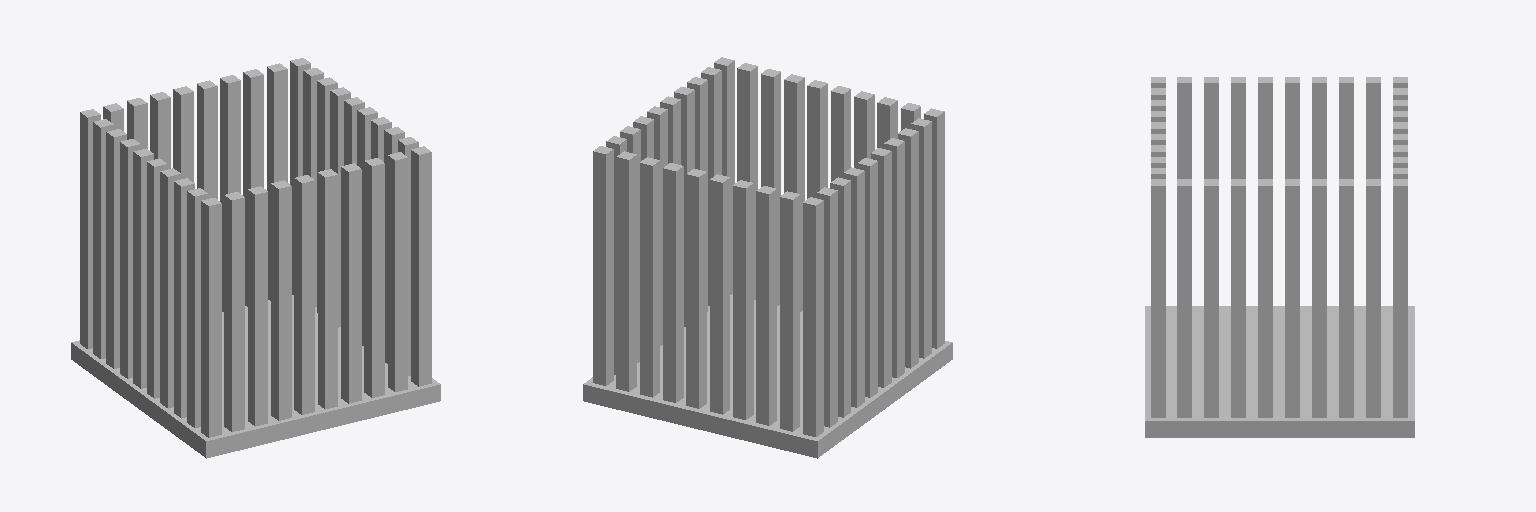
The model's file is prison.obj.
The picture shows the model from 3 angles: view 1: azimuth 30°, elevation 25°; view 2: azimuth 150°, elevation 25°; view 3: azimuth 270°, elevation 25°; orthographic projection.
Visible parts, largest first — view 1: group1 pCube47, group1 pCube54, group1 pCube56, group1 pCube48, group1 pCube51, group1 pCube50, group1 pCube57, group1 pCube53, group1 pCube52, group1 pCube55, group1 pCube49, group1 pCube78 (+24 smaller); view 2: group1 pCube47, group1 pCube59, group1 pCube61, group1 pCube64, group1 pCube67, group1 pCube62, group1 pCube58, group1 pCube65, group1 pCube66, group1 pCube63, group1 pCube60, pCube77 group1 (+24 smaller); view 3: group1 pCube47, group1 pCube71, group1 pCube75, group1 pCube48, group1 pCube58, group1 pCube68, group1 pCube72, group1 pCube69, group1 pCube70, group1 pCube73, group1 pCube74, pCube77 group1 (+7 smaller).
Part boxes in pixels (x1,y1,x2,y2): group1 pCube47: (71, 295, 440, 458); group1 pCube54: (271, 180, 291, 420); group1 pCube56: (224, 192, 244, 431); group1 pCube48: (411, 146, 431, 386); group1 pCube51: (341, 163, 361, 403); group1 pCube50: (364, 158, 384, 397); group1 pCube57: (201, 198, 221, 437); group1 pCube53: (294, 175, 314, 414); group1 pCube52: (318, 169, 337, 409); group1 pCube55: (248, 186, 267, 426); group1 pCube49: (388, 152, 407, 391); group1 pCube78: (160, 168, 180, 408); group1 pCube47: (583, 294, 952, 458); group1 pCube59: (616, 151, 636, 391); group1 pCube61: (663, 163, 683, 402); group1 pCube64: (733, 180, 753, 419); group1 pCube67: (803, 197, 823, 436); group1 pCube62: (686, 169, 706, 408); group1 pCube58: (593, 146, 613, 385); group1 pCube65: (756, 186, 776, 425); group1 pCube66: (780, 191, 799, 431); group1 pCube63: (710, 174, 729, 414); group1 pCube60: (640, 157, 659, 397); pCube77 group1: (898, 128, 918, 368); group1 pCube47: (1145, 306, 1414, 437); group1 pCube71: (1285, 179, 1299, 417); group1 pCube75: (1177, 179, 1191, 417); group1 pCube48: (1151, 179, 1165, 417); group1 pCube58: (1393, 179, 1407, 417); group1 pCube68: (1366, 179, 1380, 417); group1 pCube72: (1258, 179, 1272, 417); group1 pCube69: (1339, 179, 1353, 417); group1 pCube70: (1312, 179, 1326, 417); group1 pCube73: (1231, 179, 1245, 417); group1 pCube74: (1204, 179, 1218, 417); pCube77 group1: (1204, 77, 1218, 178).
Size of the model in its own units: 1 by 1.01 by 1.